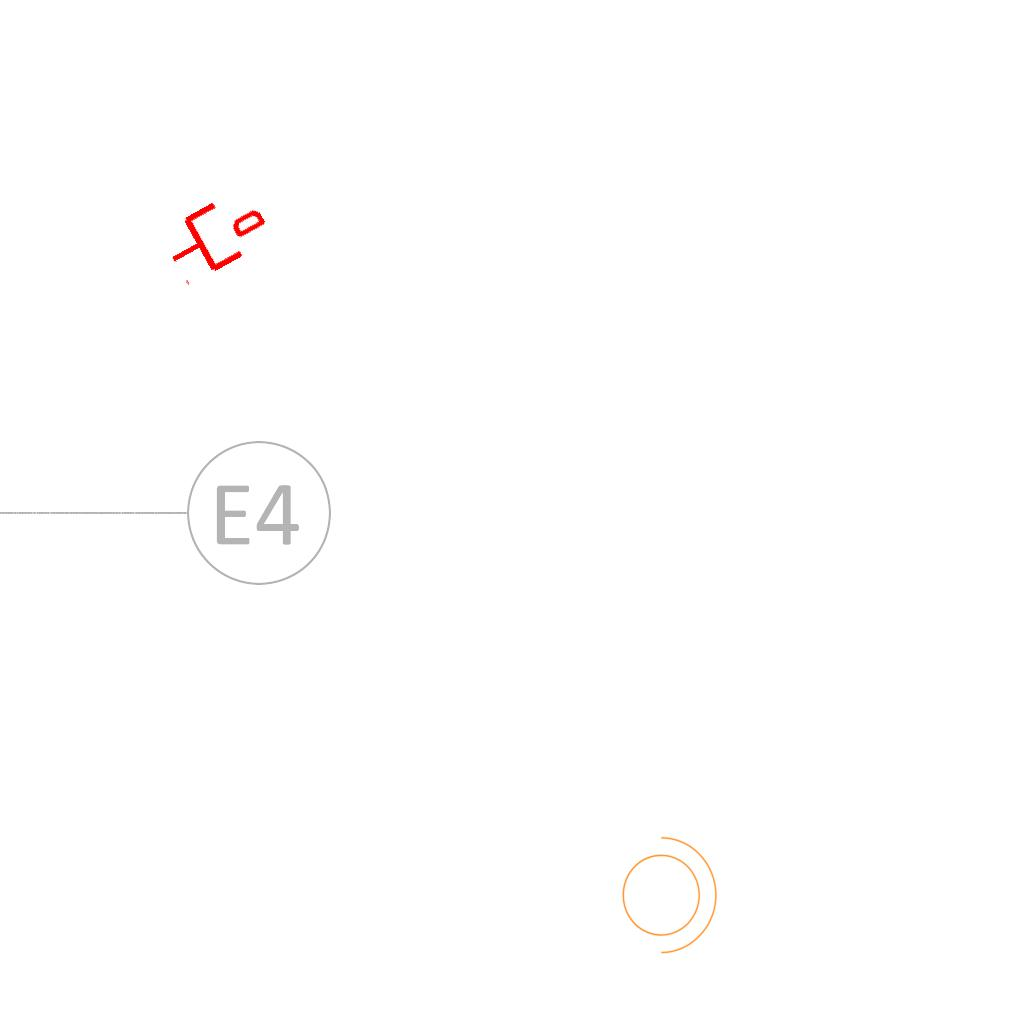Datenanschluss_einfach: (155, 181, 276, 291)
Scheinwerfer_fuer_Alarmbeleuchtung: (610, 826, 722, 958)
